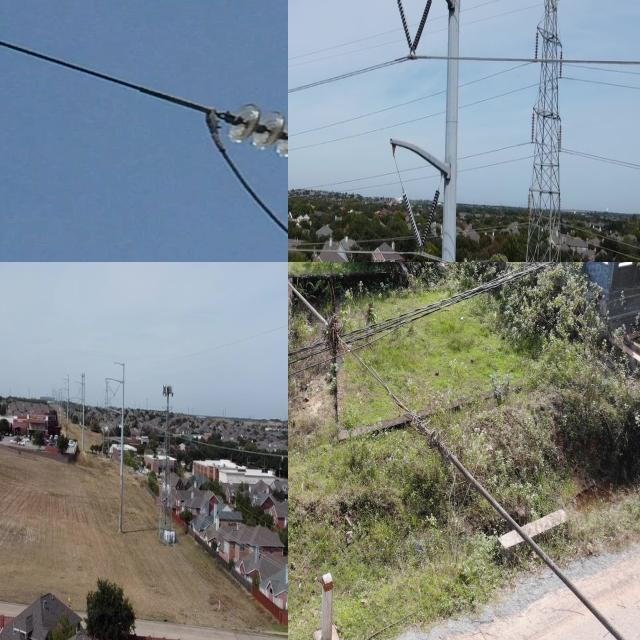杆塔: (518, 0, 568, 262), (158, 382, 175, 542), (100, 376, 112, 460)
正常电缆: (288, 45, 410, 101), (288, 238, 421, 259), (416, 51, 537, 70), (565, 54, 640, 74)
正常绝缘子: (193, 80, 288, 166), (401, 188, 443, 252), (393, 0, 436, 59), (524, 189, 533, 224), (557, 43, 565, 81), (530, 109, 536, 148), (533, 30, 540, 62), (558, 118, 563, 156)
电缆破损: (305, 290, 470, 491)
